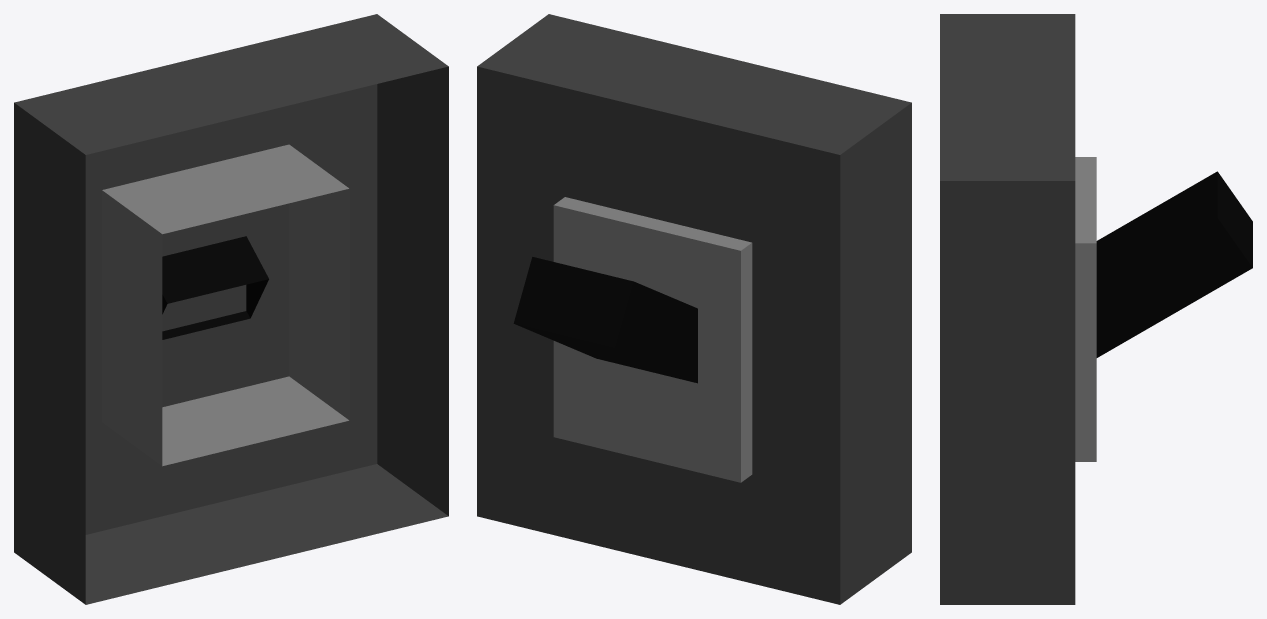
The model's file is valonkatkaisia.FBX.
The picture shows the model from 3 angles, left to right: view 1: azimuth 30°, elevation 25°; view 2: azimuth 150°, elevation 25°; view 3: azimuth 270°, elevation 25°; orthographic projection. The views are drawn at different scales.
Visible parts, largest first — view 1: valonkatkaisia; view 2: valonkatkaisia; view 3: valonkatkaisia.
Part boxes in pixels (<box>): valonkatkaisia: <box>14,14,448,604</box>; valonkatkaisia: <box>477,14,911,604</box>; valonkatkaisia: <box>940,14,1252,604</box>.
Size of the model in its own units: 22.73 by 26.91 by 17.99.
